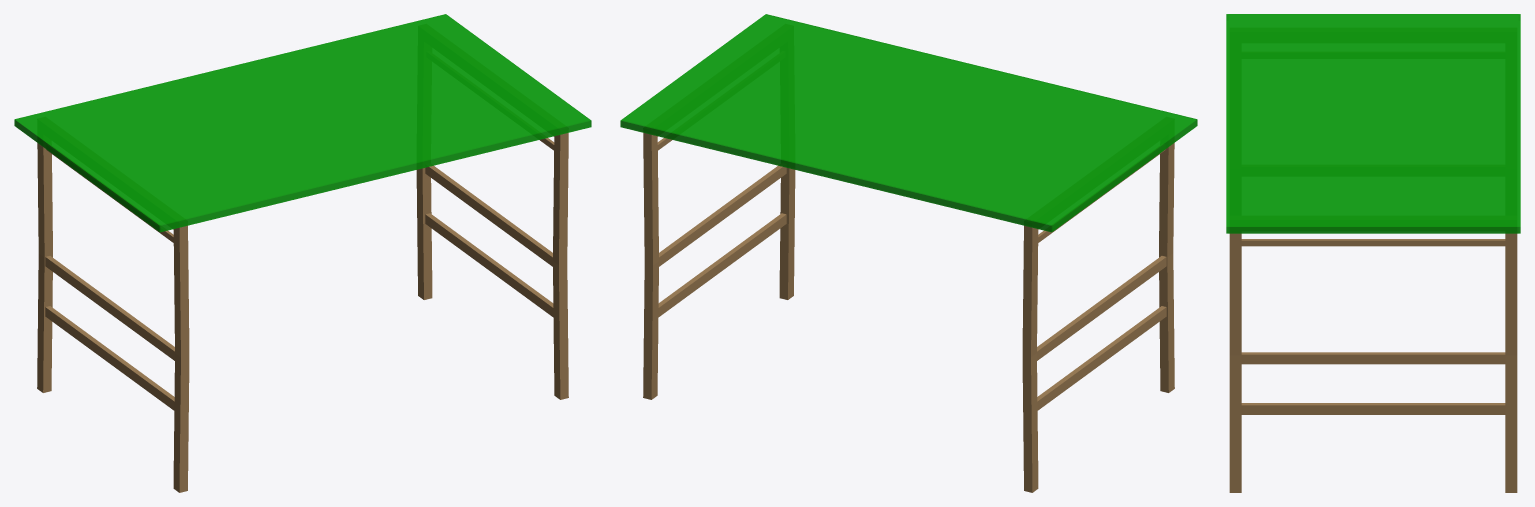
File: desk5.obj
3 renders of one model, left to right at view 1: azimuth 30°, elevation 25°; view 2: azimuth 150°, elevation 25°; view 3: azimuth 270°, elevation 25°, orthographic.
Parts seen in each view (by area): view 1: Cube_Cube.005; view 2: Cube_Cube.005; view 3: Cube_Cube.005.
Boxes of the visible parts, x1,y1,x2,y2 form: Cube_Cube.005: (14,14,591,492); Cube_Cube.005: (620,14,1197,492); Cube_Cube.005: (1226,14,1520,492).
Bounding box in the file's own units: 8.53 × 5.16 × 4.98.
